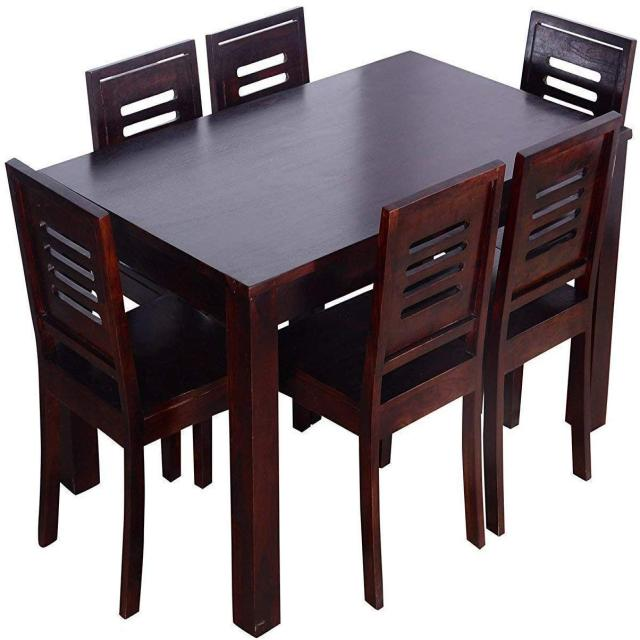obstacle: (79, 34, 614, 566), (1, 140, 237, 640), (361, 182, 513, 566)
